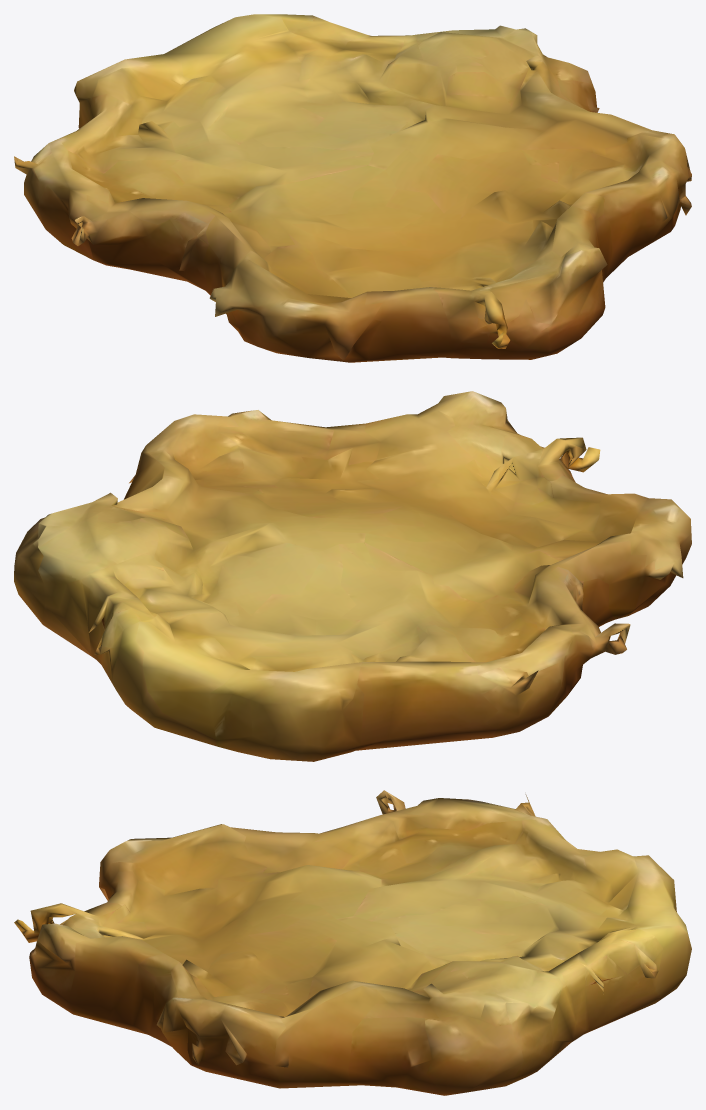
Rendered from pool.glb.
3 renders of one model, top to bottom at view 1: azimuth 30°, elevation 25°; view 2: azimuth 150°, elevation 25°; view 3: azimuth 270°, elevation 25°, orthographic. The views are drawn at different scales.
Visible parts, largest first — view 1: tripo_node_6faa7957-c930-44d1-9323-94d71528708e; view 2: tripo_node_6faa7957-c930-44d1-9323-94d71528708e; view 3: tripo_node_6faa7957-c930-44d1-9323-94d71528708e.
Boxes of the visible parts, x1,y1,x2,y2 form: tripo_node_6faa7957-c930-44d1-9323-94d71528708e: (14, 14, 691, 362); tripo_node_6faa7957-c930-44d1-9323-94d71528708e: (14, 391, 691, 761); tripo_node_6faa7957-c930-44d1-9323-94d71528708e: (14, 790, 691, 1095).
Bounding box in the file's own units: 0.8575 × 0.1729 × 0.982.
Materials: 1 (1 with a texture image).
